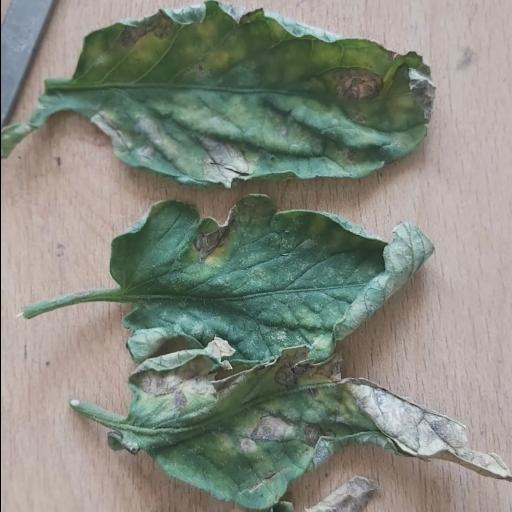Early Blight: (74, 0, 436, 192), (108, 198, 432, 363)
